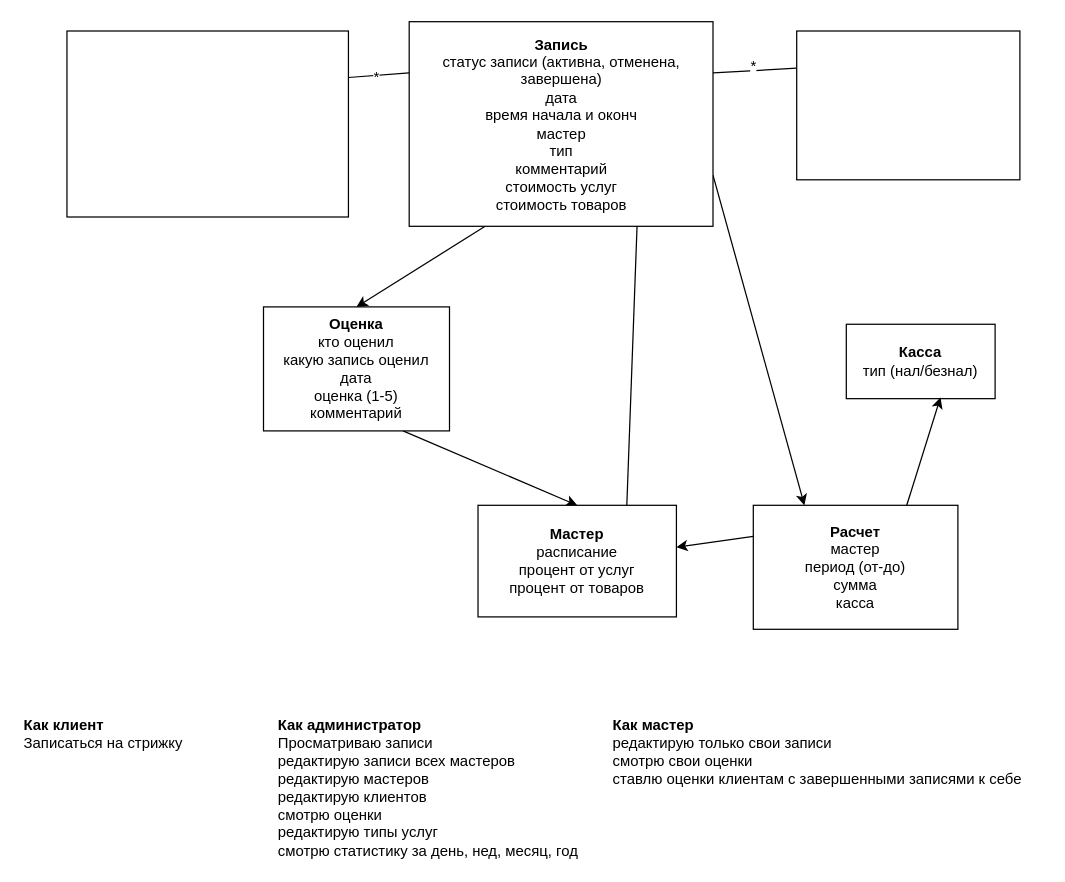
The diagram is 1065 pixels wide and 882 high, and some of its shapes have lost their labels. Each missing label, with the centre of its shape:
"Клиент телефон имя почта комментарий" belongs at (207,123).
"Тип услуги (множ) стрижка борода брови нос ..." belongs at (907,105).
